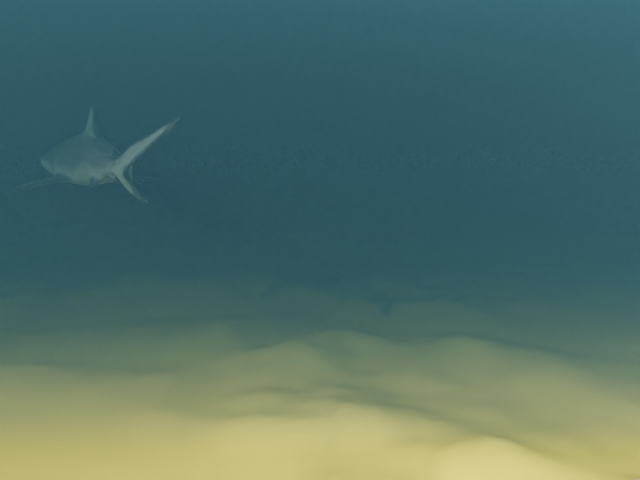Carribean Shark.001: (6, 102, 180, 203)
